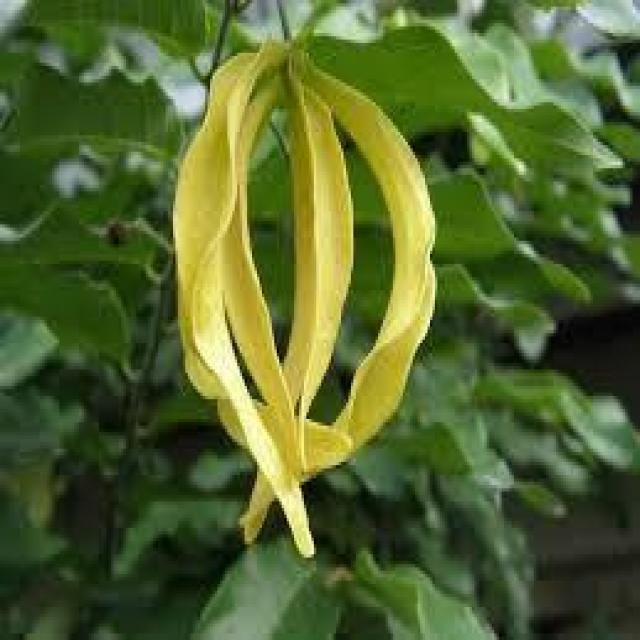organic waste: (175, 33, 438, 561)
